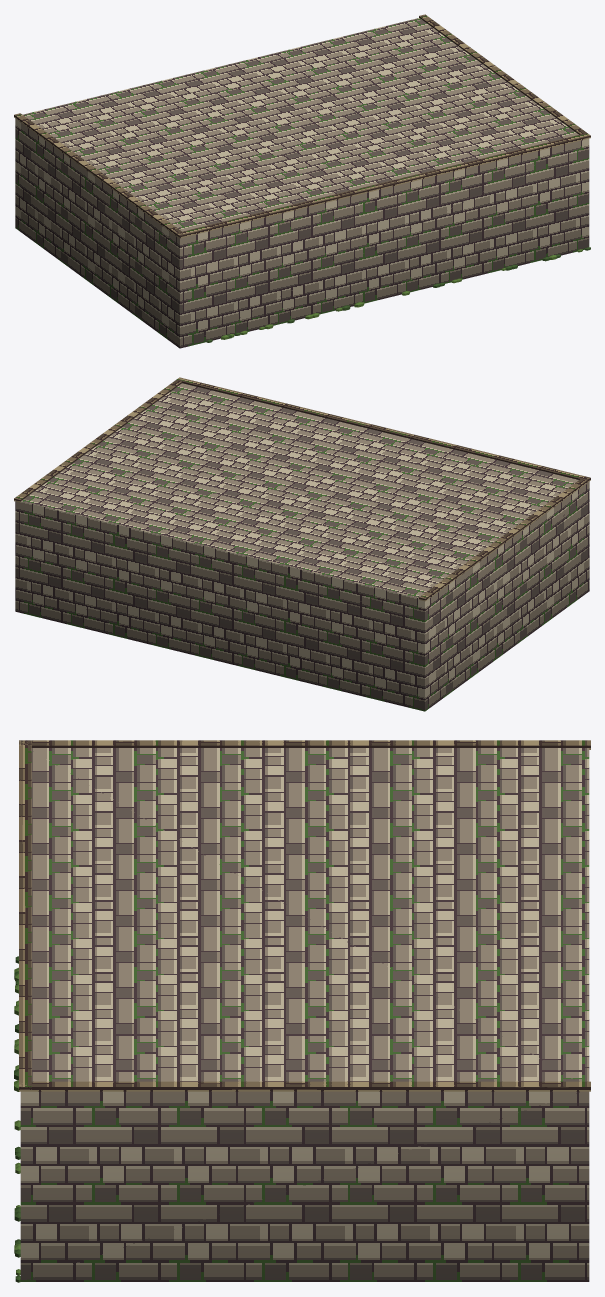
File: scene_wall_w7.glb
3 renders of one model, top to bottom at view 1: azimuth 30°, elevation 25°; view 2: azimuth 150°, elevation 25°; view 3: azimuth 270°, elevation 25°, orthographic. The views are drawn at different scales.
Parts seen in each view (by area): view 1: scene_wall_w7; view 2: scene_wall_w7; view 3: scene_wall_w7.
Part boxes in pixels (left/top/right/bottom): scene_wall_w7: left=14, top=14, right=590, bottom=348; scene_wall_w7: left=14, top=377, right=590, bottom=711; scene_wall_w7: left=14, top=740, right=590, bottom=1282.
Bounding box in the file's own units: 23.1 × 6.17 × 16.24.
Materials: 2 (1 with a texture image).
